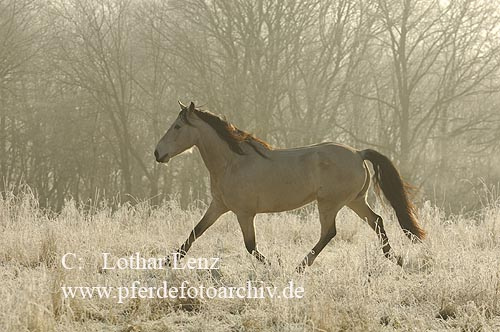horse: (135, 86, 447, 281)
